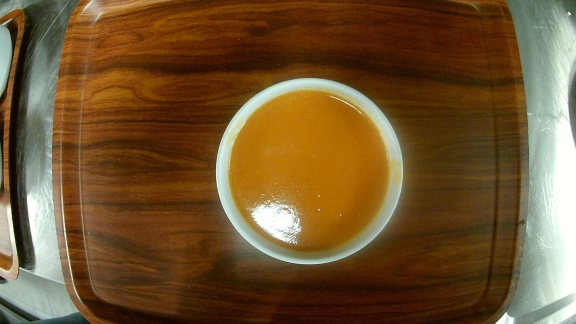domatescorba: (211, 77, 408, 266)
